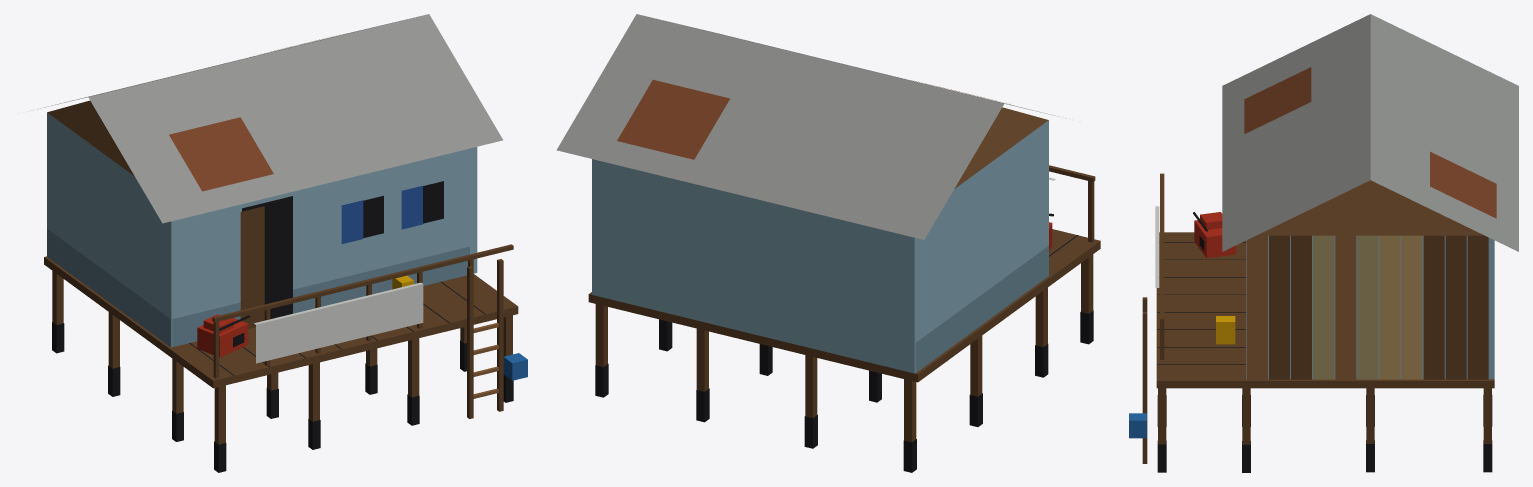
File: building_makoko-house_b.glb
3 views of the same model, side by side, from view 1: azimuth 30°, elevation 25°; view 2: azimuth 150°, elevation 25°; view 3: azimuth 270°, elevation 25° (orthographic). The views are drawn at different scales.
Visible parts, largest first — view 1: body; view 2: body; view 3: body.
Boxes of the visible parts, <box> form: body: <box>30,14,527,472</box>; body: <box>557,14,1100,472</box>; body: <box>1129,14,1518,472</box>.
Size of the model in its own units: 5.7 by 4.85 by 5.65.
